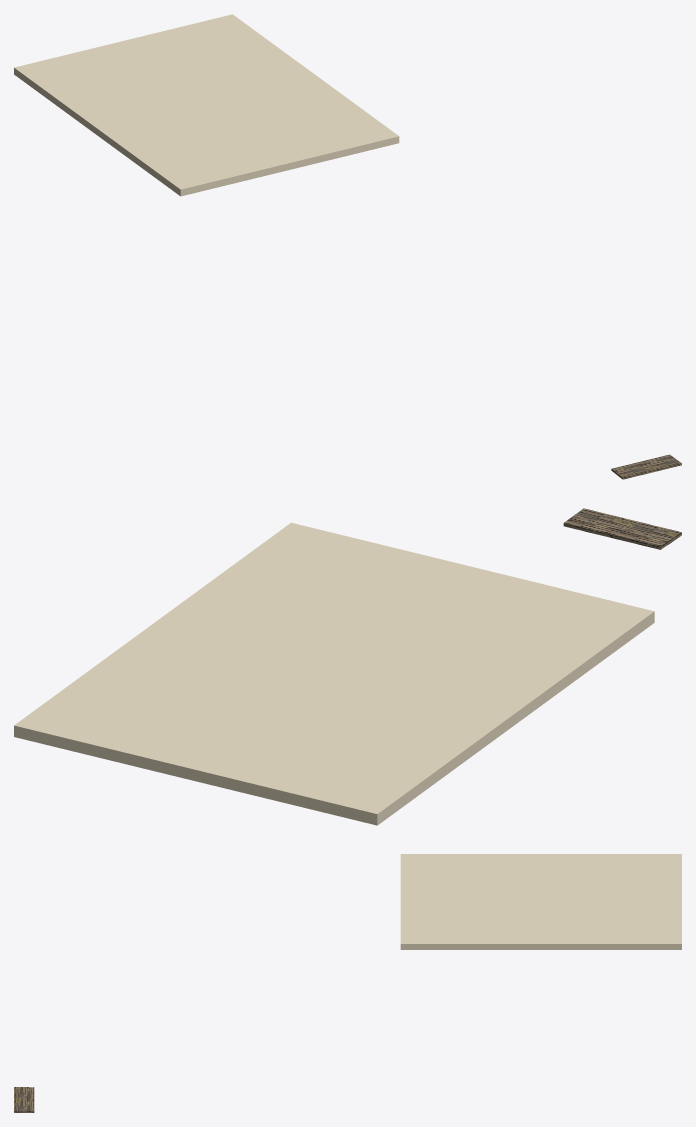
The model's file is tapas.glb.
The picture shows the model from 3 angles, top to bottom: view 1: azimuth 30°, elevation 25°; view 2: azimuth 150°, elevation 25°; view 3: azimuth 270°, elevation 25°; orthographic projection. The views are drawn at different scales.
Parts seen in each view (by area): view 1: 41595, 41597; view 2: 41595, 41597; view 3: 41595, 41597.
Boxes of the visible parts, x1,y1,x2,y2 form: 41595: (14,14,399,196); 41597: (611,454,681,479); 41595: (14,522,654,825); 41597: (563,508,681,549); 41595: (400,854,681,949); 41597: (14,1087,34,1112).
Size of the model in its own units: 10.12 by 6.19 by 25.53.
Materials: 12 (6 with a texture image).
